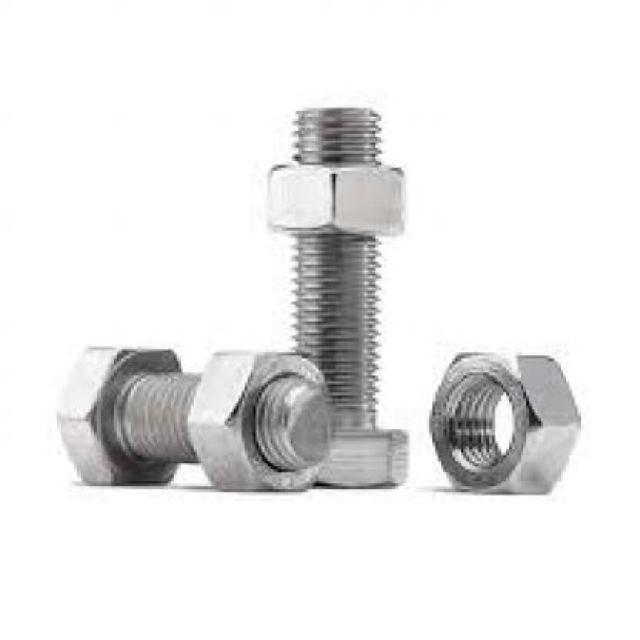METAL: (281, 105, 407, 484), (54, 342, 335, 489), (427, 347, 578, 495), (191, 350, 326, 492), (265, 159, 403, 236)
